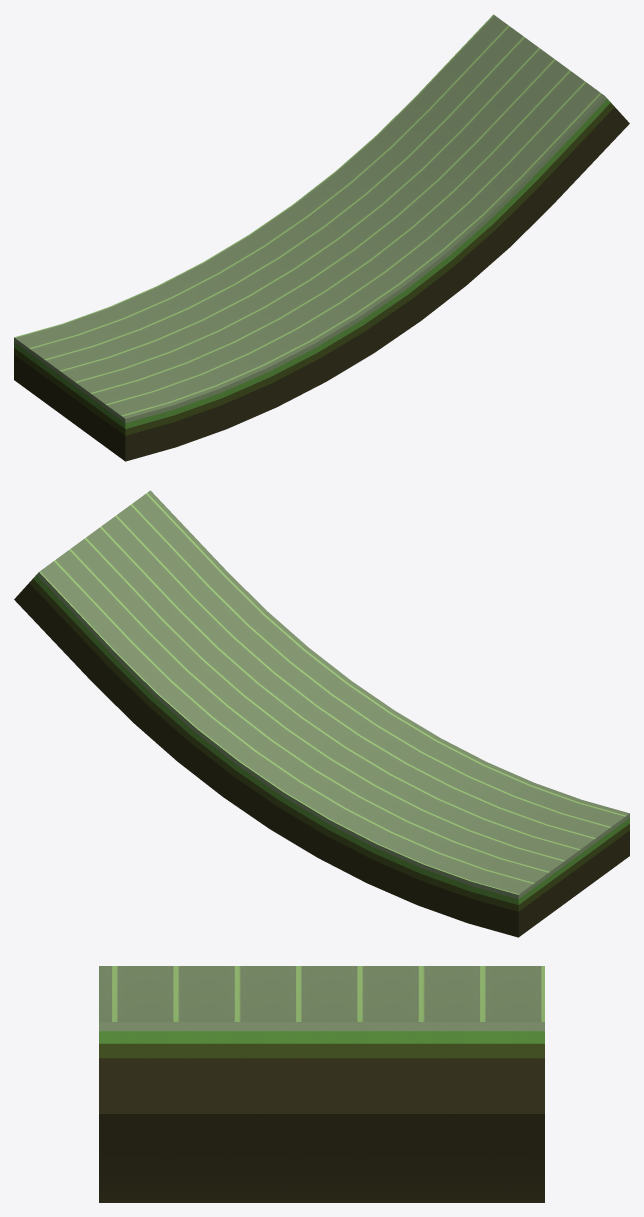
File: floorbendUp_fbx.fbx
3 views of the same model, one above another, from view 1: azimuth 30°, elevation 25°; view 2: azimuth 150°, elevation 25°; view 3: azimuth 270°, elevation 25° (orthographic). The views are drawn at different scales.
Parts seen in each view (by area): view 1: puzzle001_floor; view 2: puzzle001_floor; view 3: puzzle001_floor.
Boxes of the visible parts, x1,y1,x2,y2 form: puzzle001_floor: (14,14,629,461); puzzle001_floor: (14,490,629,937); puzzle001_floor: (99,966,544,1202).
Size of the model in its own units: 495 by 233 by 189.
